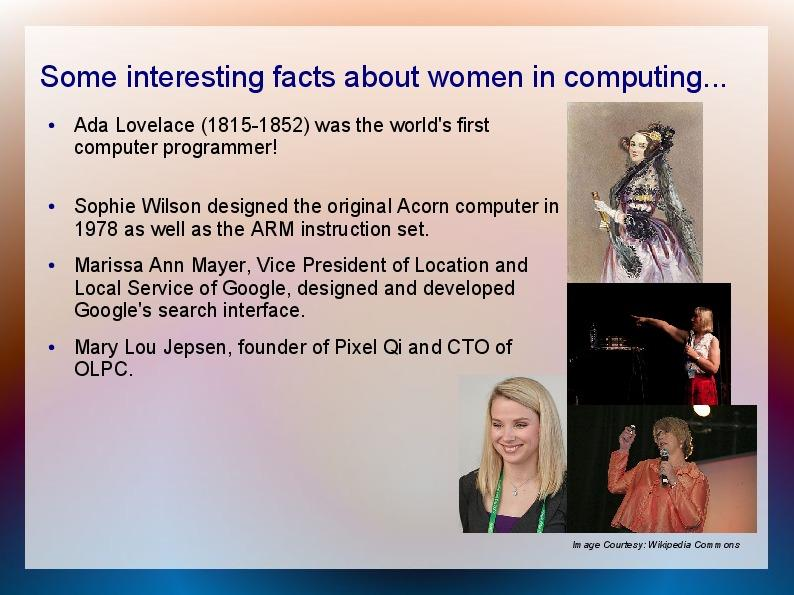paragraph: (37, 110, 570, 383)
title: (35, 49, 739, 99)
